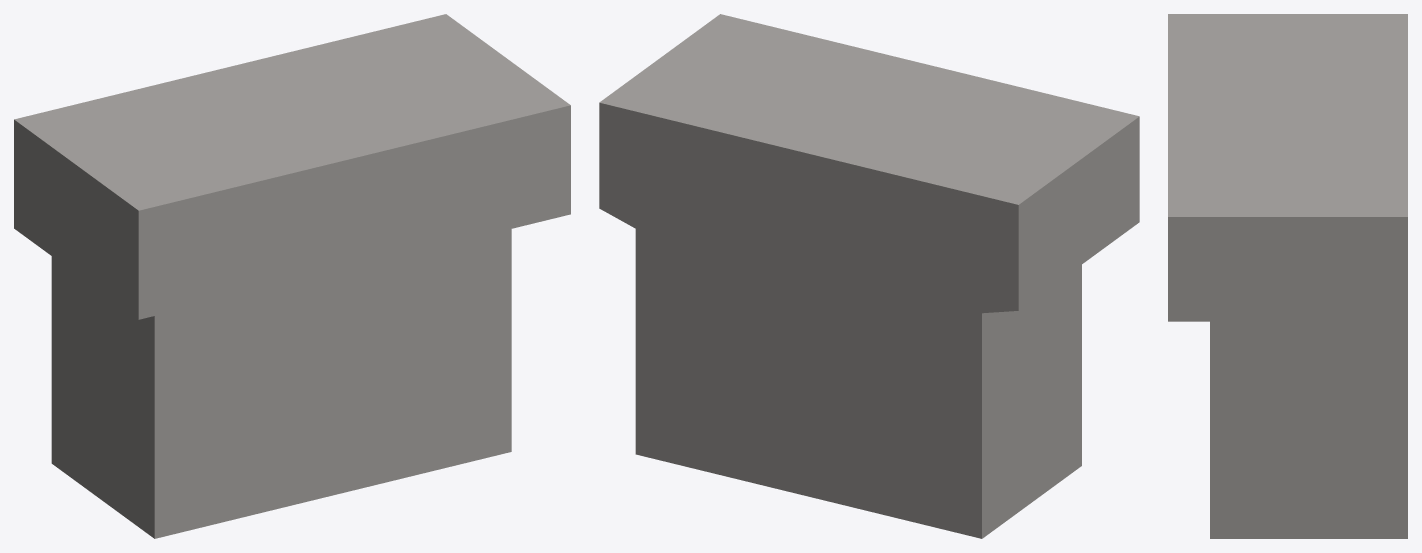
The model's file is SM_Bld_Trim_Wall_High_03_Pillar_03.obj.
The picture shows the model from 3 angles, left to right: view 1: azimuth 30°, elevation 25°; view 2: azimuth 150°, elevation 25°; view 3: azimuth 270°, elevation 25°; orthographic projection. The views are drawn at different scales.
Parts seen in each view (by area): view 1: SM_Bld_Trim_Wall_High_03_Pillar_03_0; view 2: SM_Bld_Trim_Wall_High_03_Pillar_03_0; view 3: SM_Bld_Trim_Wall_High_03_Pillar_03_0.
Part boxes in pixels (bbox=[...]): SM_Bld_Trim_Wall_High_03_Pillar_03_0: bbox=[14, 14, 570, 538]; SM_Bld_Trim_Wall_High_03_Pillar_03_0: bbox=[599, 14, 1139, 538]; SM_Bld_Trim_Wall_High_03_Pillar_03_0: bbox=[1168, 14, 1407, 538].
Size of the model in its own units: 0.6097 by 0.4764 by 0.3049.
Materials: 1 (1 with a texture image).
